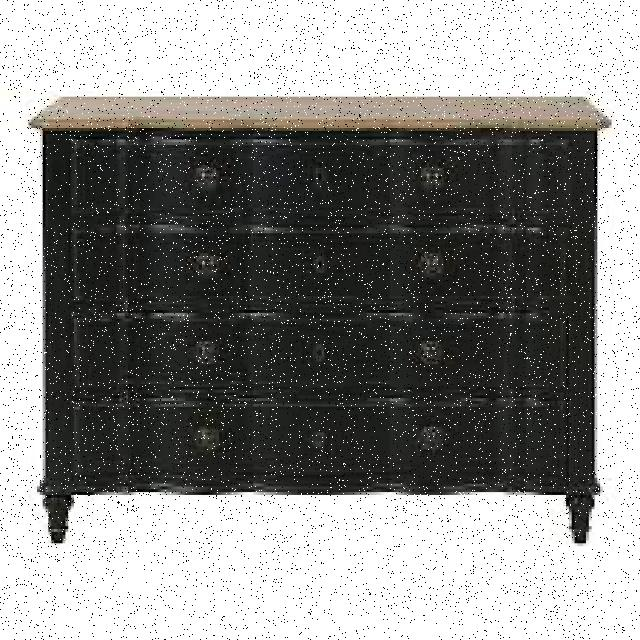mobile-phone: (23, 86, 614, 550)
